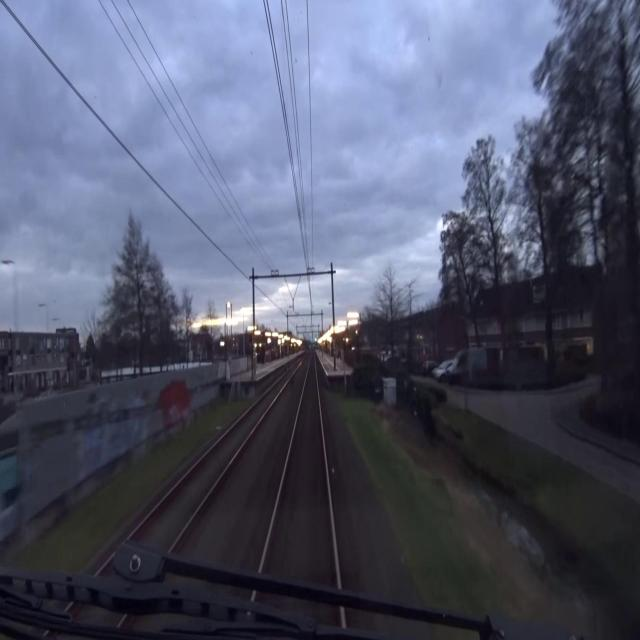rail-track: (138, 372, 290, 544), (263, 356, 336, 581)
